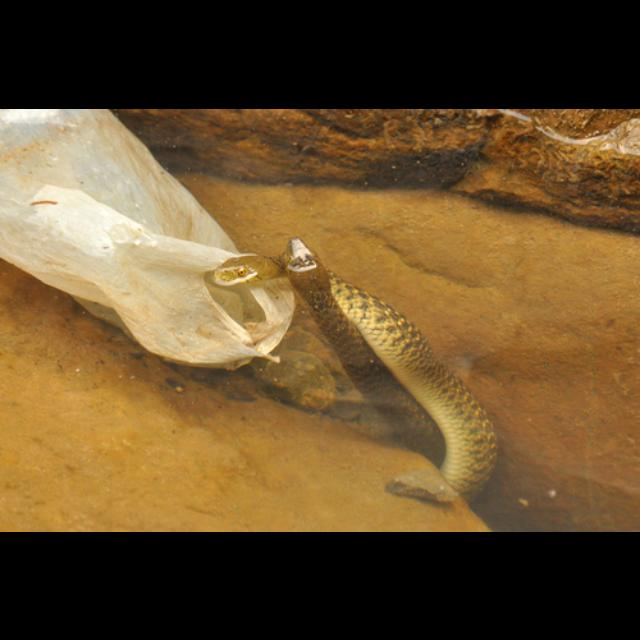snake: (218, 229, 514, 499)
